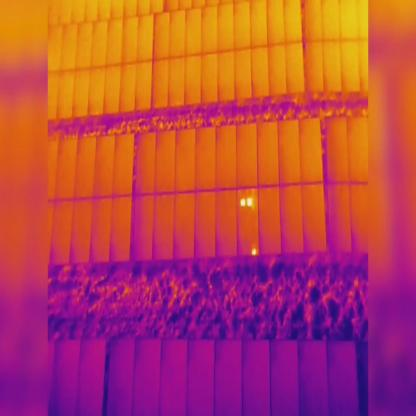hotspot: (249, 244, 258, 255), (247, 194, 253, 208), (238, 197, 246, 207)
